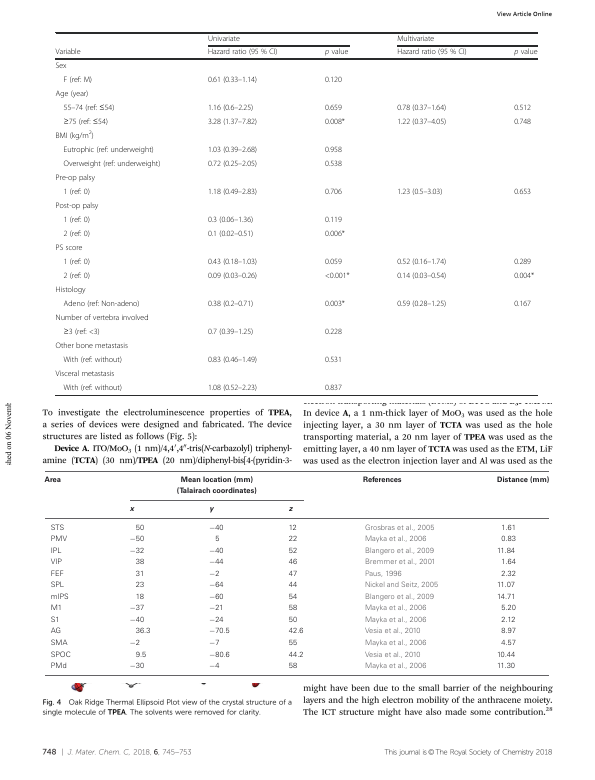borderless: (54, 31, 538, 395), (44, 470, 549, 675)
cell: (176, 476, 258, 496), (62, 159, 161, 169), (55, 313, 149, 323), (62, 145, 155, 155), (62, 299, 140, 309), (55, 341, 129, 351), (396, 48, 468, 58), (207, 48, 278, 58), (364, 581, 439, 590), (364, 559, 436, 568), (364, 524, 435, 533), (364, 547, 435, 556), (364, 593, 435, 602), (62, 355, 123, 365), (62, 383, 123, 393), (55, 369, 115, 379), (364, 616, 427, 625), (364, 639, 427, 648), (364, 662, 427, 671), (62, 103, 115, 113), (364, 628, 421, 637), (364, 651, 421, 660), (207, 75, 258, 85), (396, 103, 447, 113), (207, 117, 258, 127), (396, 117, 447, 127), (207, 145, 258, 155), (207, 159, 258, 169), (207, 187, 258, 197), (207, 257, 258, 267), (396, 257, 447, 267), (207, 271, 258, 281), (396, 271, 447, 281), (396, 299, 447, 309), (207, 355, 258, 365), (207, 383, 258, 393), (364, 536, 427, 544), (364, 605, 427, 613), (207, 103, 254, 113), (62, 117, 109, 127), (396, 187, 443, 197), (207, 215, 254, 225), (207, 229, 254, 239), (207, 299, 254, 309), (207, 327, 254, 337), (55, 130, 95, 141), (55, 201, 99, 211), (496, 476, 550, 484), (55, 173, 96, 183), (62, 327, 101, 337), (364, 570, 403, 579), (396, 35, 435, 44), (55, 89, 89, 99), (362, 476, 403, 484), (62, 75, 93, 85), (55, 285, 86, 295), (207, 35, 241, 44), (62, 187, 91, 197), (62, 215, 91, 225), (62, 229, 91, 239), (62, 257, 91, 267), (62, 271, 91, 281), (55, 243, 83, 253), (324, 271, 351, 281), (55, 48, 81, 58), (324, 48, 349, 58), (513, 48, 538, 58), (324, 117, 346, 127), (324, 229, 346, 239), (513, 271, 535, 281), (324, 299, 346, 309), (208, 628, 231, 637), (208, 651, 231, 660), (50, 651, 72, 660), (324, 75, 343, 85), (324, 103, 343, 113), (513, 103, 532, 113), (513, 117, 532, 127), (324, 145, 343, 155), (324, 159, 343, 169), (324, 187, 343, 197), (513, 187, 532, 197), (324, 215, 343, 225), (324, 257, 343, 267), (513, 257, 532, 267), (513, 299, 532, 309), (324, 327, 343, 337), (324, 355, 343, 365), (324, 383, 343, 393), (496, 547, 516, 556), (496, 581, 516, 590), (50, 593, 70, 602), (496, 593, 516, 602), (496, 651, 516, 660), (496, 662, 516, 671), (50, 639, 68, 648), (50, 662, 68, 671), (208, 524, 225, 533), (500, 524, 517, 533), (208, 547, 225, 556), (208, 559, 225, 568), (500, 559, 517, 568), (500, 570, 517, 579), (208, 581, 225, 590), (208, 593, 225, 602), (208, 605, 225, 614), (208, 616, 225, 625), (500, 628, 517, 637), (500, 639, 517, 648), (43, 476, 62, 484), (50, 536, 68, 544), (129, 547, 145, 556), (129, 605, 145, 614), (129, 616, 145, 625), (500, 616, 516, 625), (135, 628, 151, 637), (288, 628, 304, 637), (288, 651, 304, 660), (129, 662, 145, 671), (500, 536, 517, 544), (500, 605, 517, 613), (50, 524, 65, 533), (50, 570, 65, 579), (50, 581, 65, 590), (129, 536, 145, 544), (55, 61, 67, 71), (50, 547, 63, 556), (50, 559, 63, 568), (50, 605, 63, 614), (208, 570, 220, 579), (50, 628, 62, 637), (129, 639, 141, 648), (208, 639, 220, 648), (135, 651, 147, 660), (208, 662, 220, 671), (135, 524, 145, 533), (288, 524, 298, 533), (288, 547, 298, 556), (135, 559, 145, 568), (288, 559, 298, 568), (135, 570, 145, 579), (288, 570, 298, 579), (135, 581, 145, 590), (288, 581, 298, 590), (135, 593, 145, 602), (288, 593, 298, 602), (288, 605, 298, 614), (50, 616, 60, 625), (288, 616, 298, 625), (288, 639, 298, 648), (288, 662, 298, 671), (288, 536, 298, 544), (214, 536, 220, 544), (129, 507, 135, 514), (208, 507, 214, 514), (288, 507, 293, 514)
